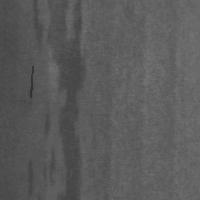inclusion: (46, 1, 85, 197), (26, 1, 46, 51), (28, 64, 34, 99)
